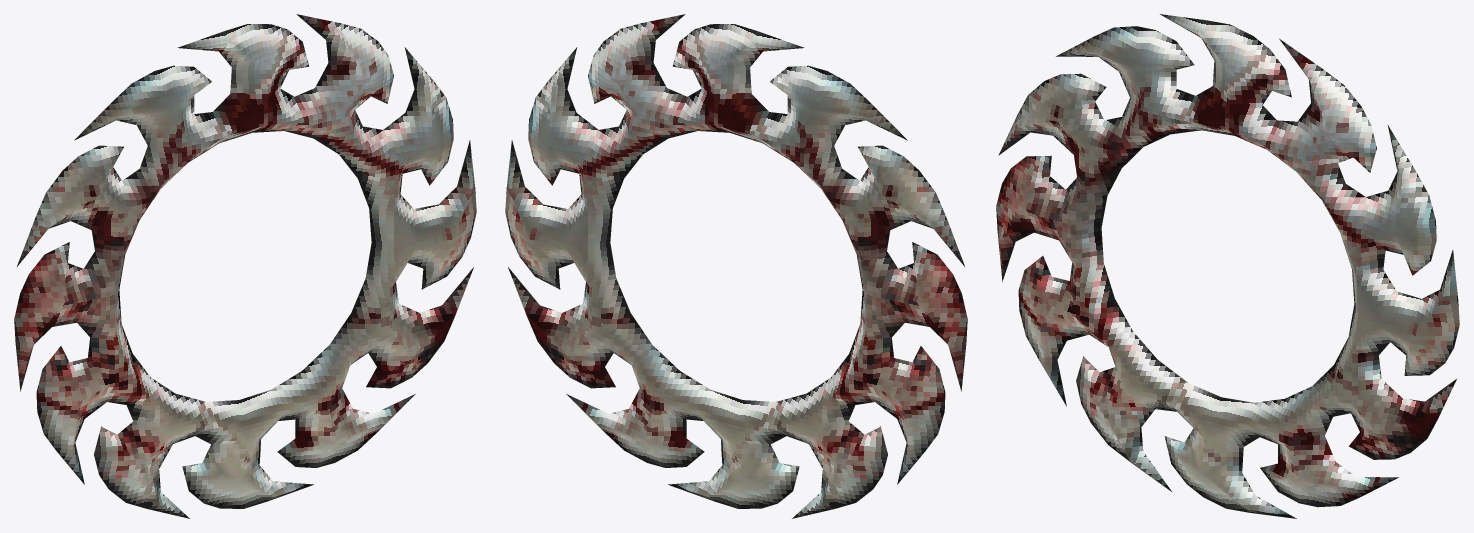
Rendered from ps2_save-icons_crustydemons.glb.
3 renders of one model, left to right at view 1: azimuth 30°, elevation 25°; view 2: azimuth 150°, elevation 25°; view 3: azimuth 330°, elevation 25°, orthographic.
Visible parts, largest first — view 1: game.icn; view 2: game.icn; view 3: game.icn.
Part boxes in pixels (x1,y1,x2,y2): game.icn: (14, 14, 476, 518); game.icn: (505, 14, 967, 518); game.icn: (996, 14, 1459, 518).
Size of the model in its own units: 4.49 by 4.49 by 0.3589.
Materials: 1 (1 with a texture image).
